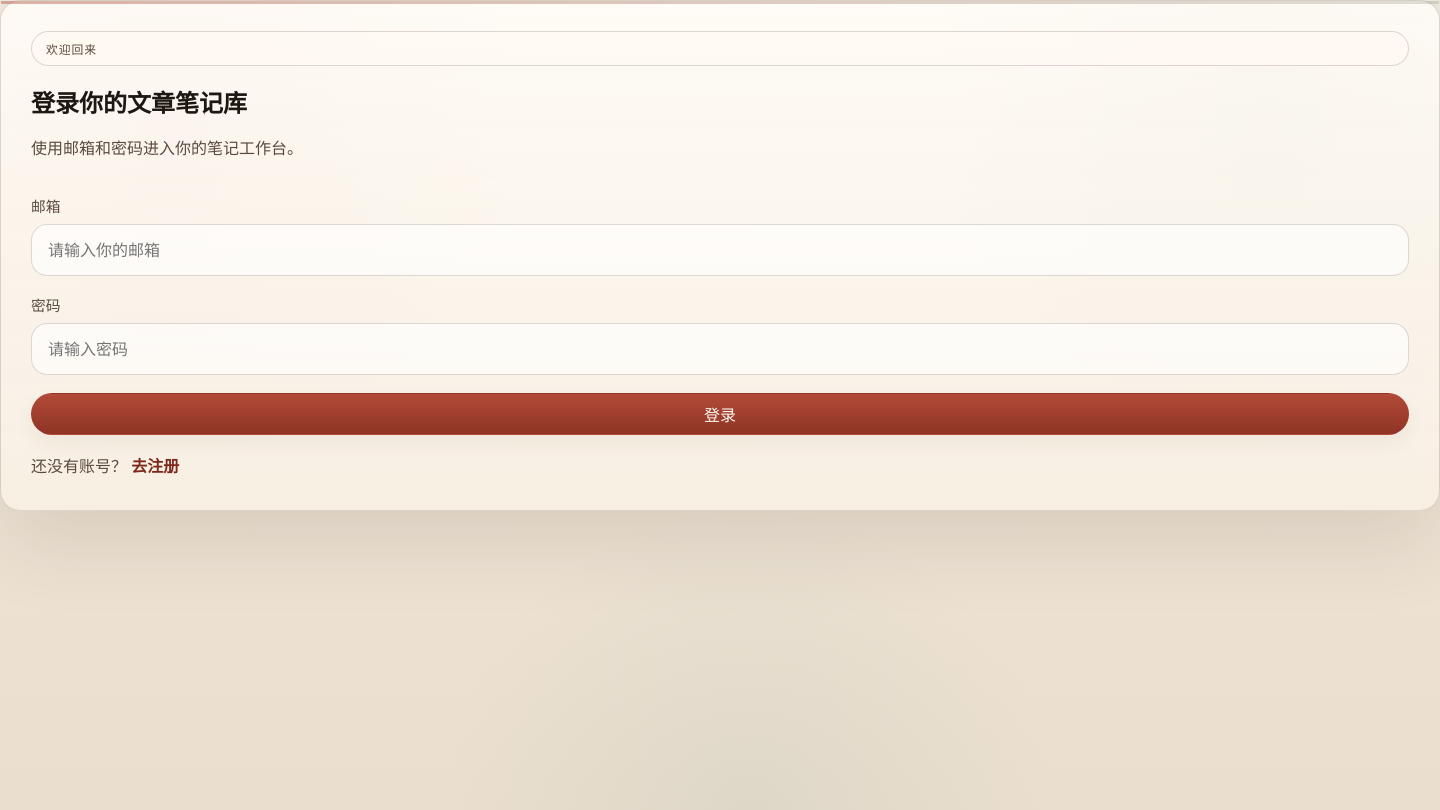
Test: AuthForm › translates supabase signin errors
In the field labelled "邮箱": [720, 250] box [31, 224, 1409, 276], type "user@example.com"
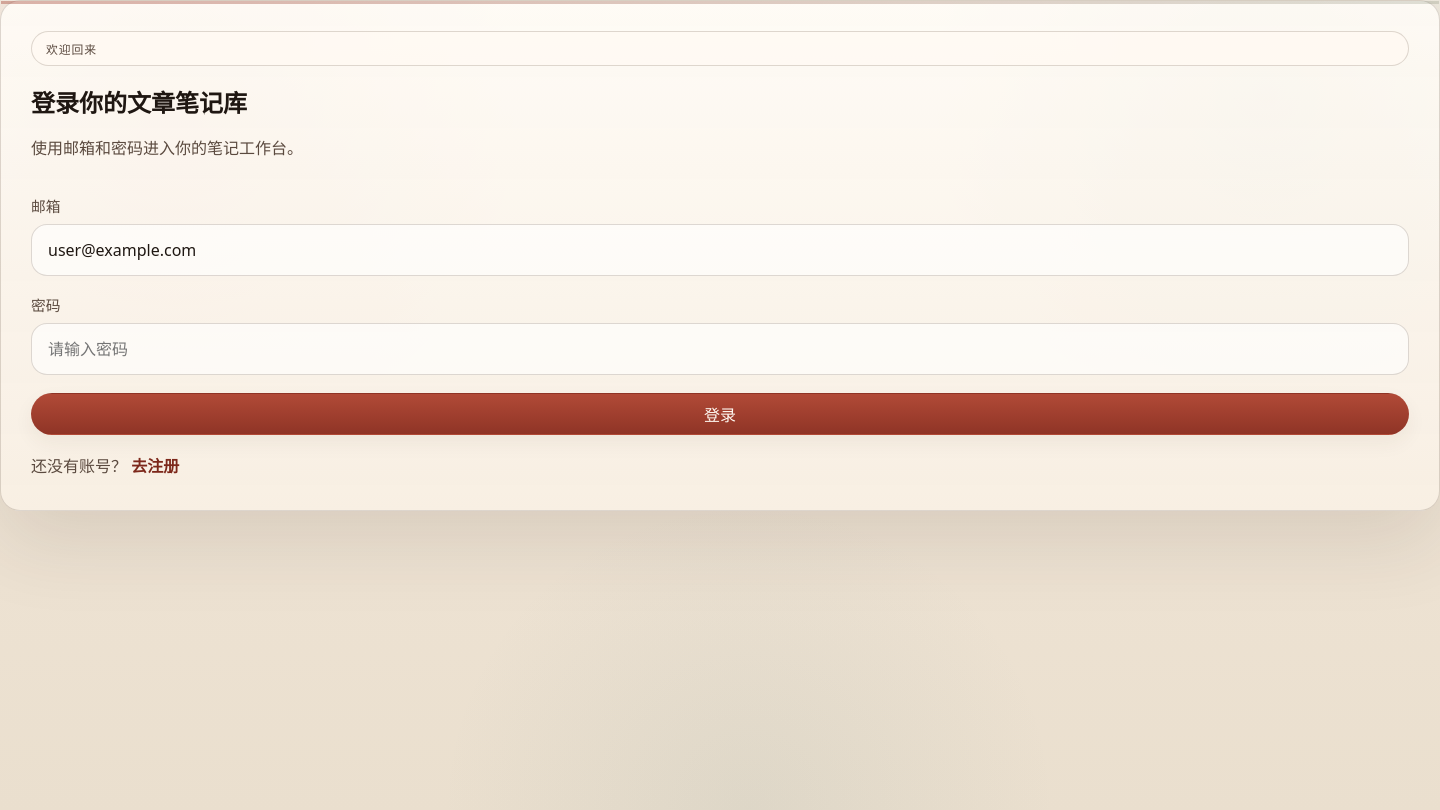
In the password field labelled "密码": [720, 349] box [31, 323, 1409, 375], type "wrong-password"
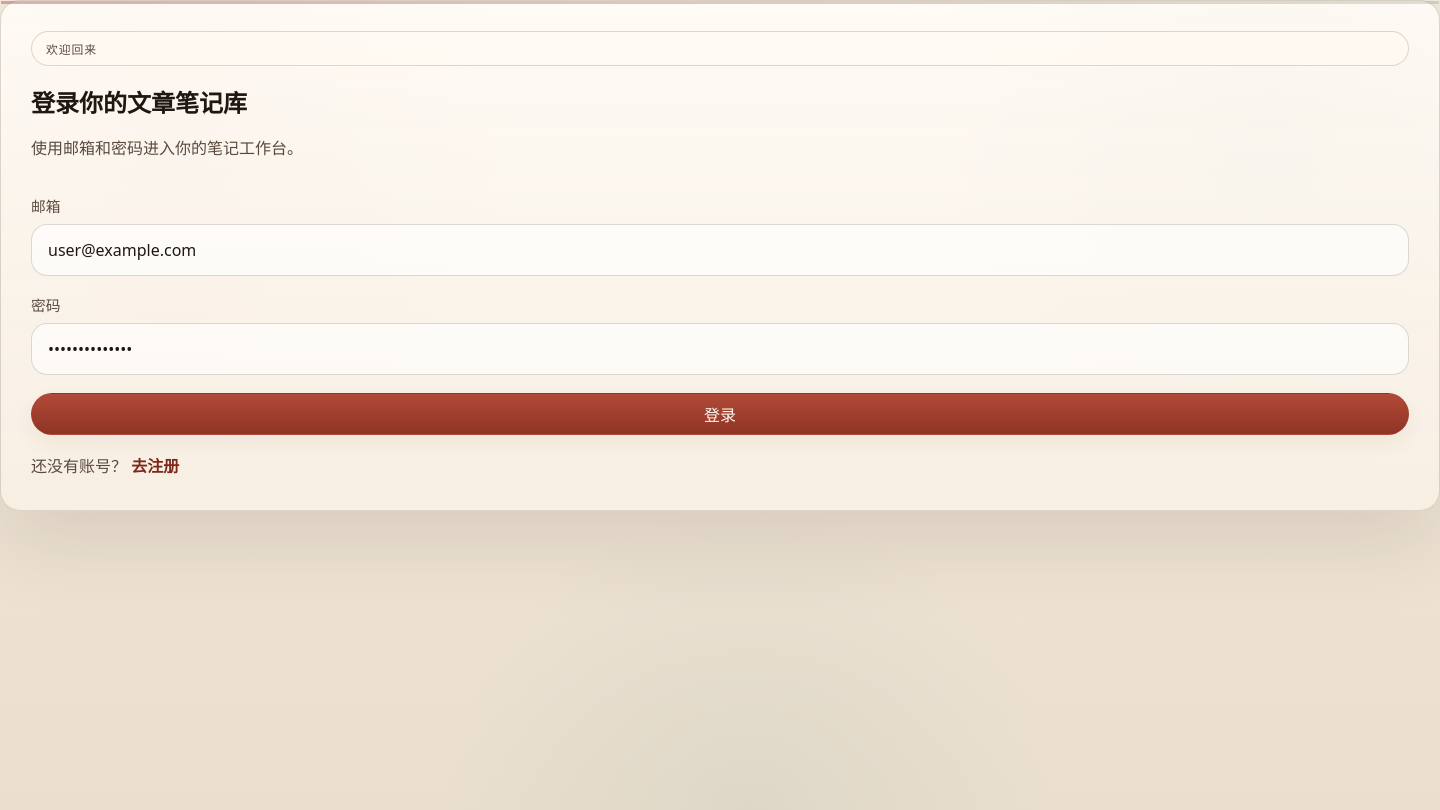
Click the button "登录": [720, 414] box [31, 393, 1409, 435]
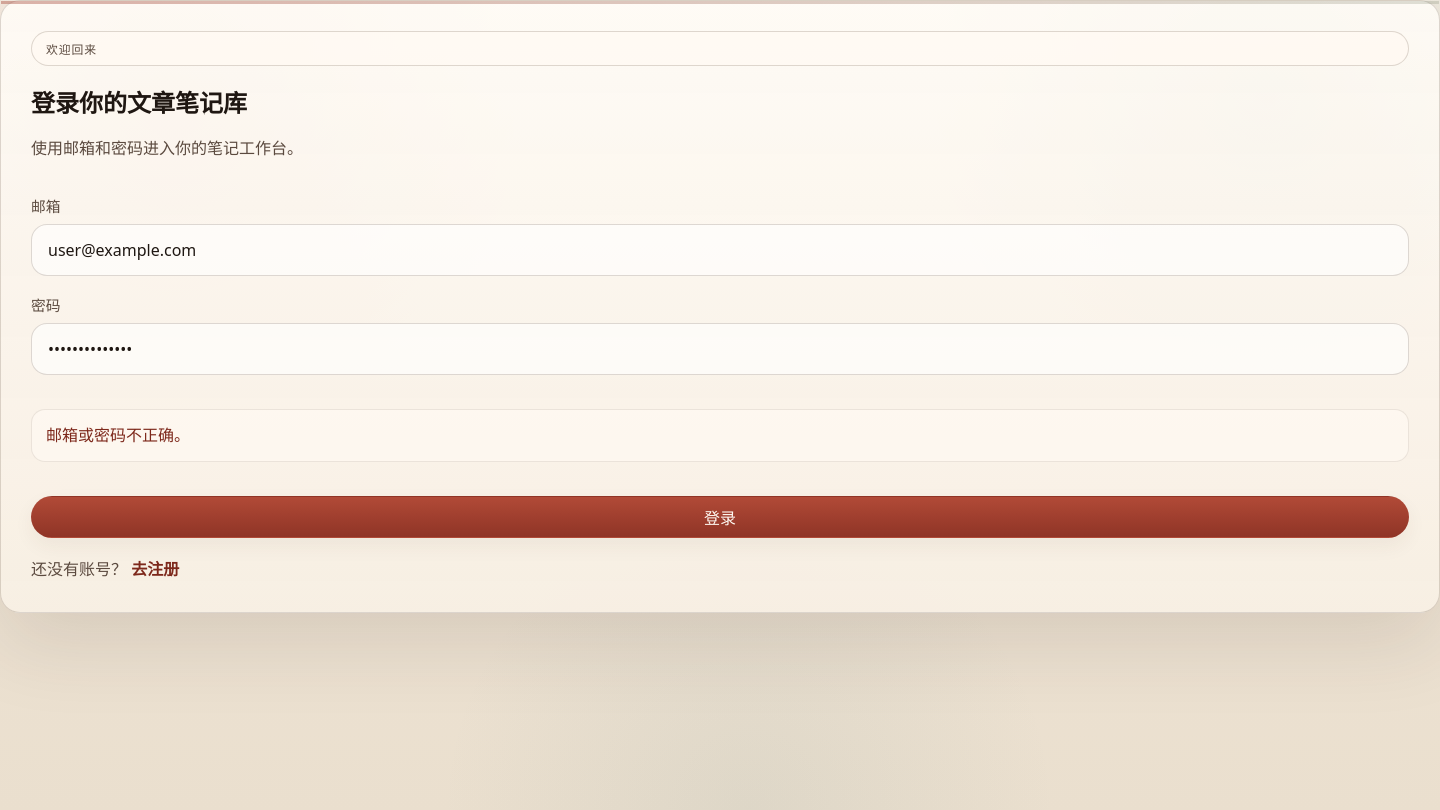
Expected: the text "邮箱或密码不正确。" is shown, [31, 409, 1409, 462]
